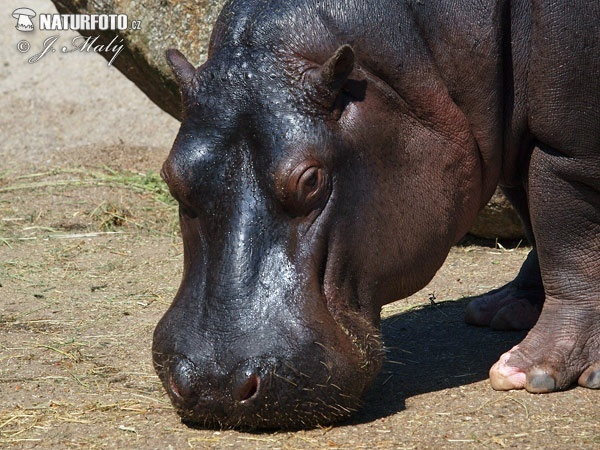hipopotamo: (127, 1, 600, 435)
